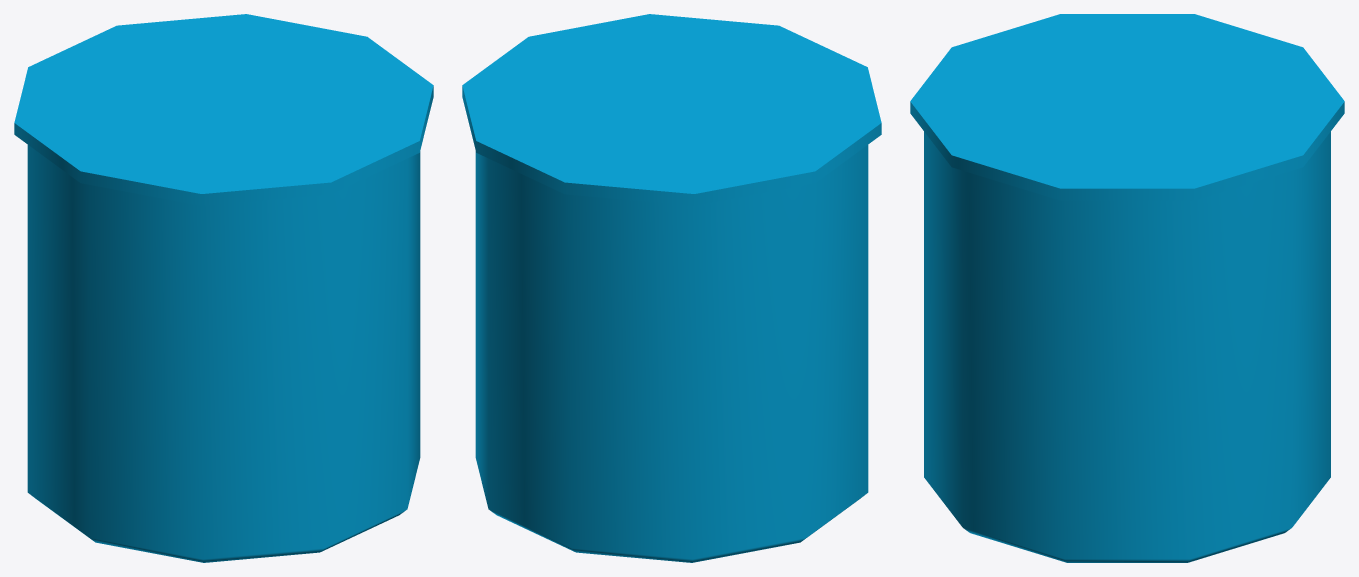
Rendered from Paint_Bucket_03_Lod1.fbx.
3 views of the same model, side by side, from view 1: azimuth 30°, elevation 25°; view 2: azimuth 150°, elevation 25°; view 3: azimuth 270°, elevation 25° (orthographic).
Parts seen in each view (by area): view 1: Paint_Bucket_03_Lod1; view 2: Paint_Bucket_03_Lod1; view 3: Paint_Bucket_03_Lod1.
Boxes of the visible parts, bbox=[...] form: Paint_Bucket_03_Lod1: bbox=[14, 14, 433, 562]; Paint_Bucket_03_Lod1: bbox=[462, 14, 881, 562]; Paint_Bucket_03_Lod1: bbox=[910, 14, 1344, 562].
Bounding box in the file's own units: 23.93 × 24.5 × 25.17.
